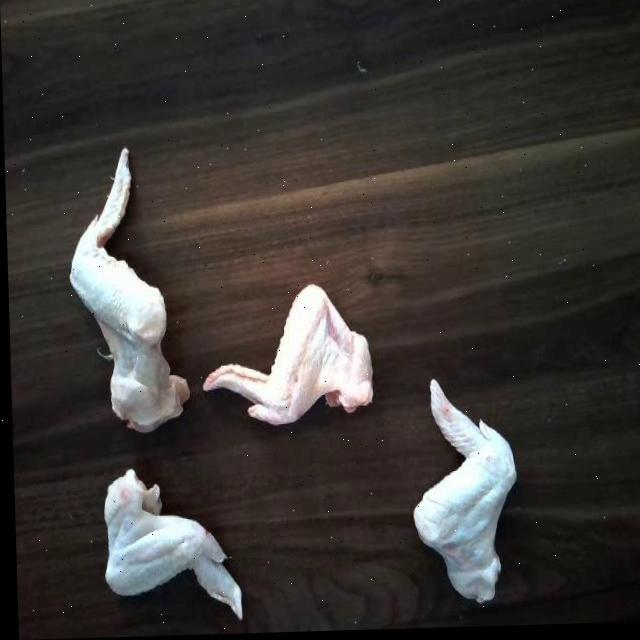wing: (74, 143, 190, 424), (200, 280, 377, 436), (94, 468, 251, 631), (408, 373, 518, 599)
